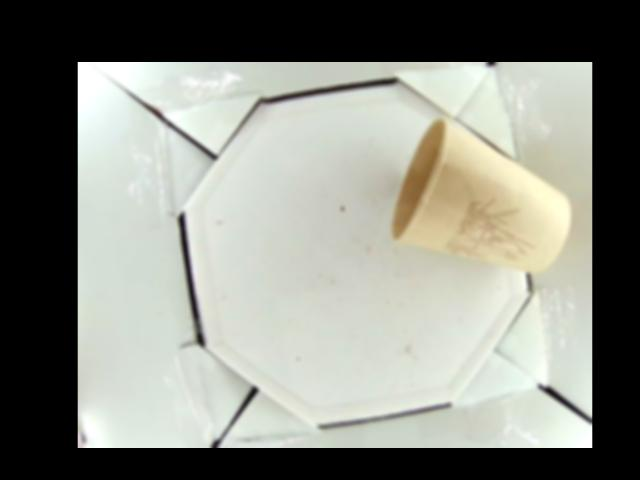Cup: (391, 118, 569, 273)
